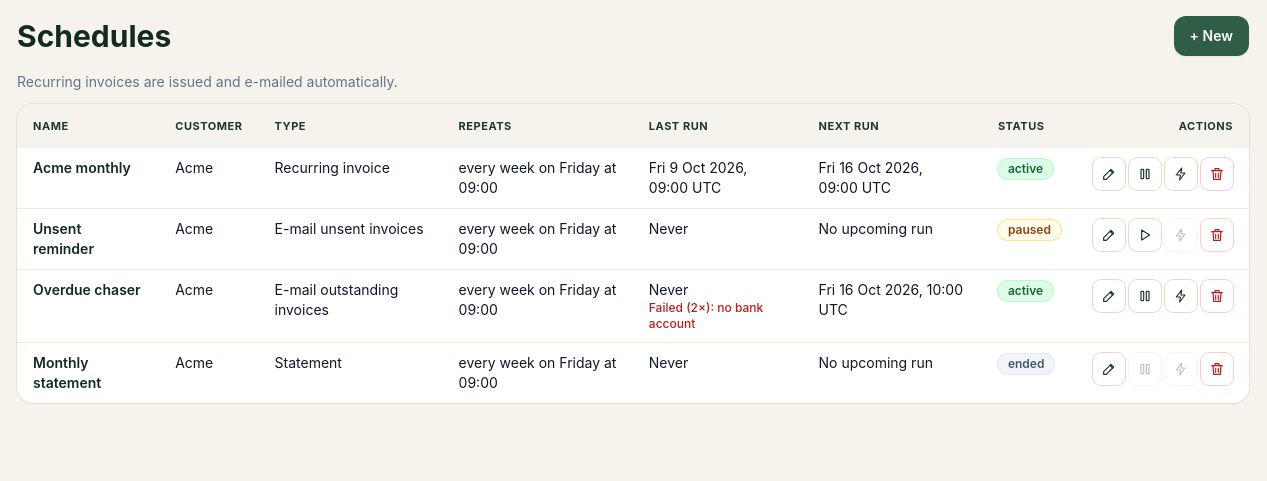
a refused action shows the error and the buttons come back
Click the button named "Pause Acme monthly". click: [1145, 174]
box: [1129,158,1161,190]
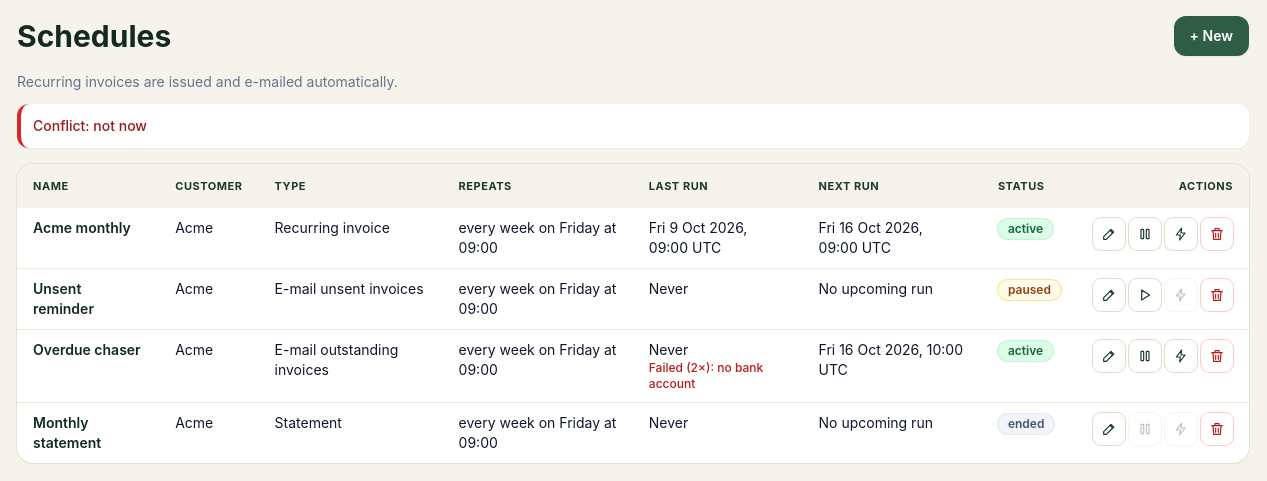
Check: the button named "Pause Acme monthly" is enabled, box [1129,218,1161,250]
Check: the message reads "Conflict: not now", box [33,117,147,134]
